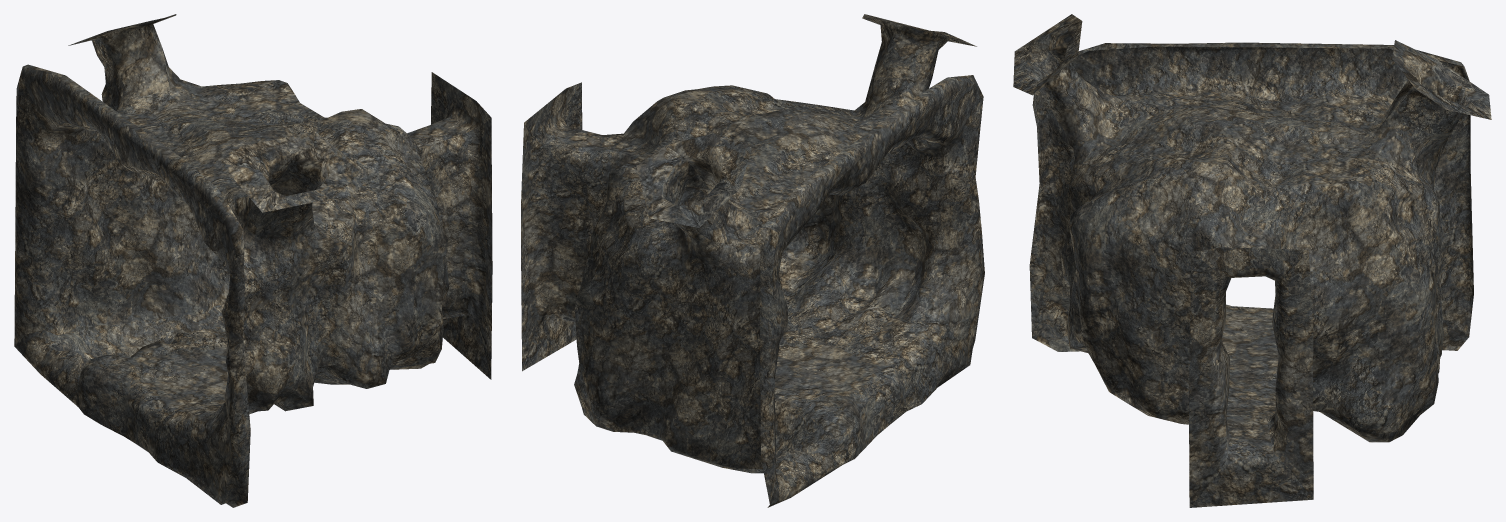
Rendered from Module15A.fbx.
3 views of the same model, side by side, from view 1: azimuth 30°, elevation 25°; view 2: azimuth 150°, elevation 25°; view 3: azimuth 270°, elevation 25° (orthographic). The views are drawn at different scales.
Visible parts, largest first — view 1: cave_el15A_1800_Group31553; view 2: cave_el15A_1800_Group31553; view 3: cave_el15A_1800_Group31553.
Part boxes in pixels (<box>): cave_el15A_1800_Group31553: <box>14,14,492,507</box>; cave_el15A_1800_Group31553: <box>521,14,984,507</box>; cave_el15A_1800_Group31553: <box>1013,14,1491,507</box>.
Bounding box in the file's own units: 32.4 × 30.65 × 38.84.
